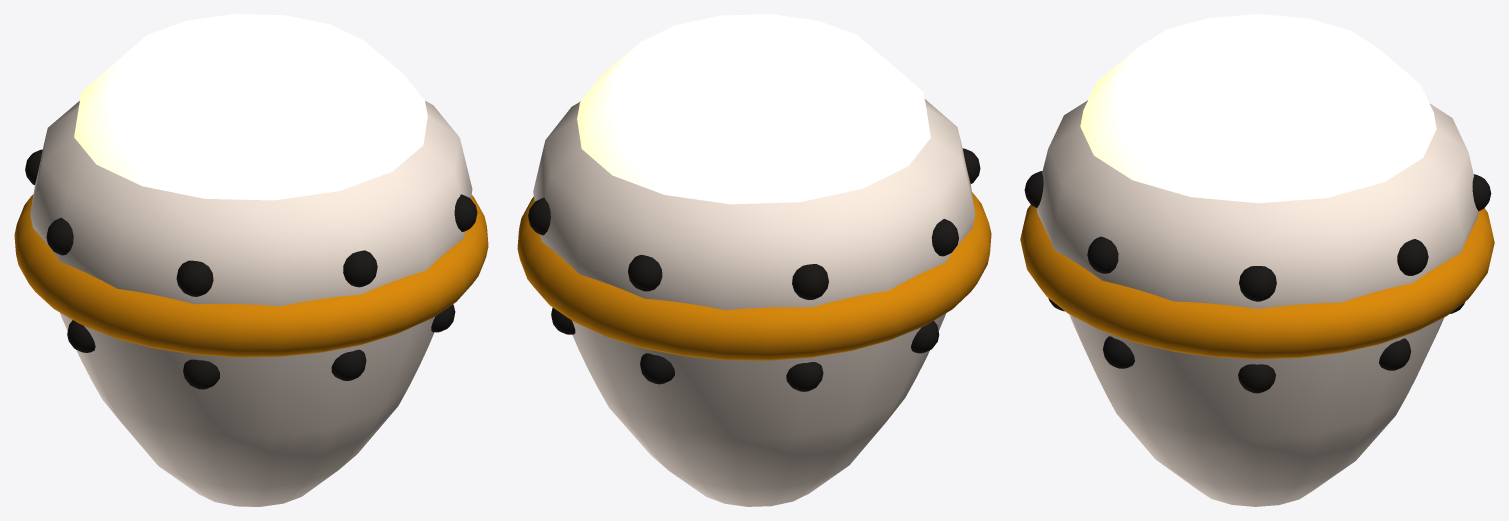
File: LargeLight.fbx
3 renders of one model, left to right at view 1: azimuth 30°, elevation 25°; view 2: azimuth 150°, elevation 25°; view 3: azimuth 270°, elevation 25°, orthographic.
Parts seen in each view (by area): view 1: Body, LightEmissive, Upper, Lower; view 2: Body, LightEmissive, Upper, Lower; view 3: Body, LightEmissive, Upper, Lower.
Part boxes in pixels (x1,y1,x2,y2): Body: (14,100,488,506); LightEmissive: (74,14,427,200); Upper: (25,149,477,296); Lower: (67,304,455,389); Body: (517,99,991,506); LightEmissive: (577,14,930,204); Upper: (528,148,980,299); Lower: (551,307,939,391); Body: (1020,100,1494,506); LightEmissive: (1080,14,1436,203); Upper: (1024,171,1491,301); Lower: (1048,298,1464,393).
Size of the model in its own units: 3.86 by 3.96 by 3.86.
